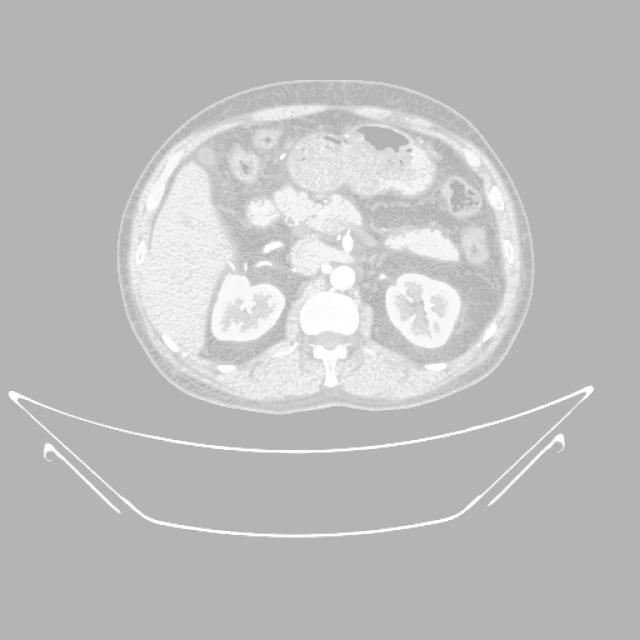TUMOR: (215, 134, 523, 306)
